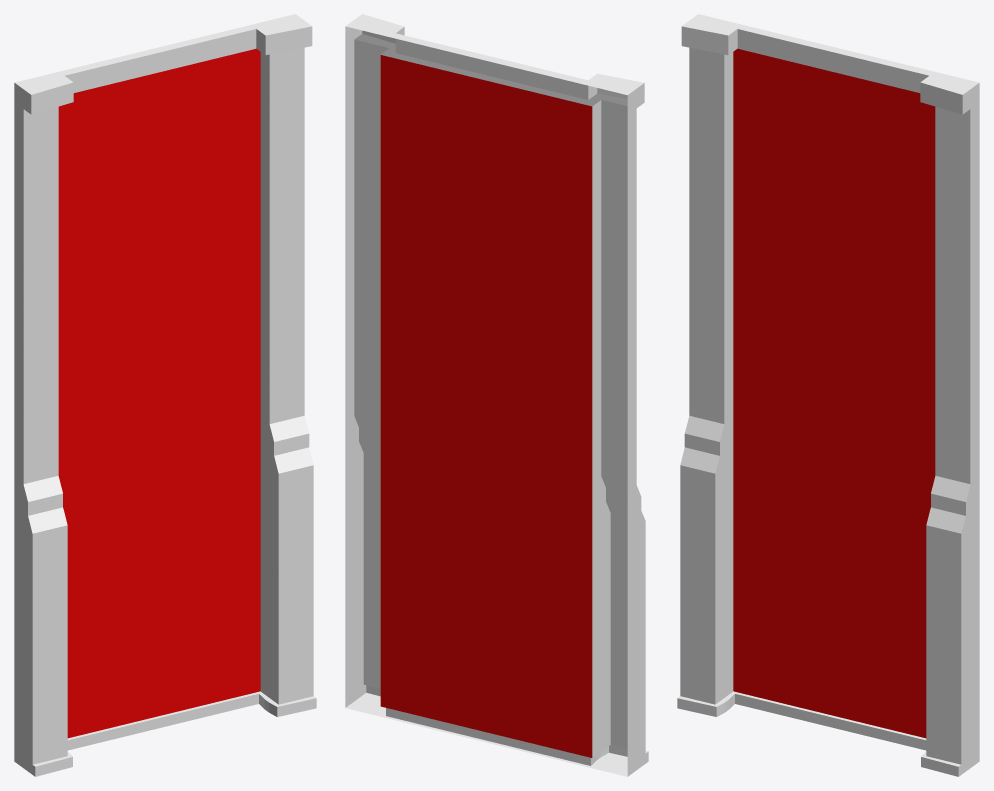
File: Wall.FBX
3 views of the same model, side by side, from view 1: azimuth 30°, elevation 25°; view 2: azimuth 150°, elevation 25°; view 3: azimuth 330°, elevation 25° (orthographic).
Visible parts, largest first — view 1: Wall; view 2: Wall; view 3: Wall.
Boxes of the visible parts, box(x1,y1,x2,y2) form: Wall: box(14, 14, 316, 776); Wall: box(345, 14, 648, 776); Wall: box(677, 14, 979, 776).
Size of the model in its own units: 52 by 120 by 6.72.
